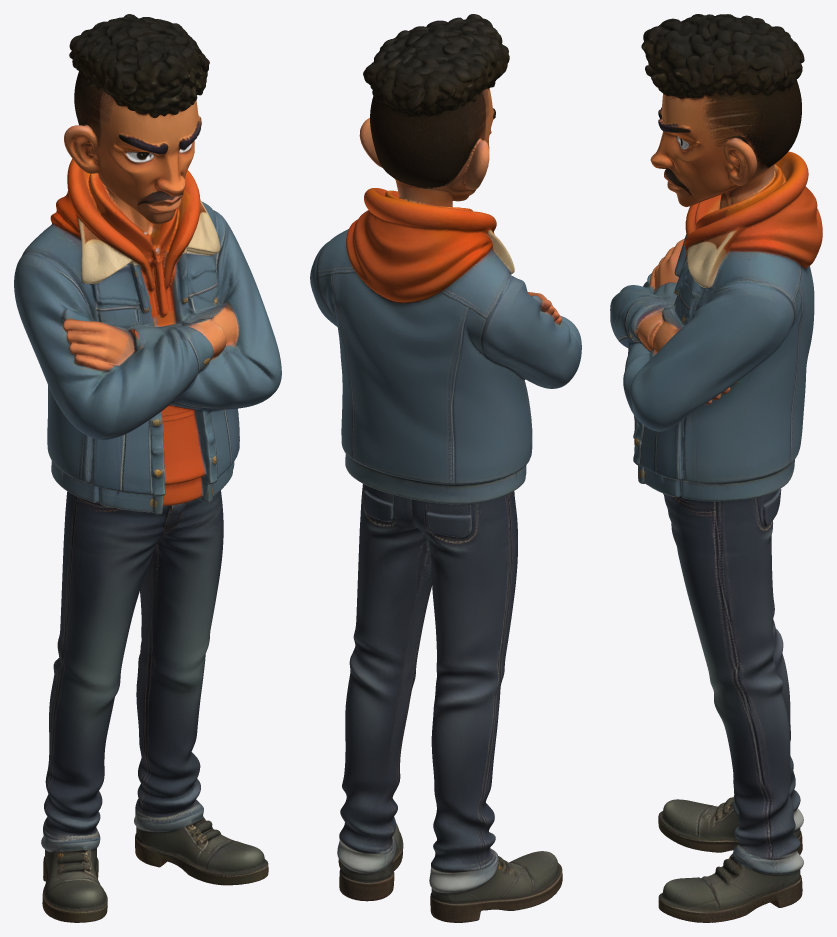
The model's file is Juan_Camilo_NPC_Meshy.glb.
3 views of the same model, side by side, from view 1: azimuth 30°, elevation 25°; view 2: azimuth 150°, elevation 25°; view 3: azimuth 270°, elevation 25° (orthographic).
Parts seen in each view (by area): view 1: Mesh_0; view 2: Mesh_0; view 3: Mesh_0.
Boxes of the visible parts, left/top/right/bottom form: Mesh_0: left=14, top=14, right=281, bottom=922; Mesh_0: left=310, top=14, right=581, bottom=922; Mesh_0: left=610, top=14, right=822, bottom=922.
Bounding box in the file's own units: 0.4501 × 1.7 × 0.383.
Materials: 1 (1 with a texture image).
